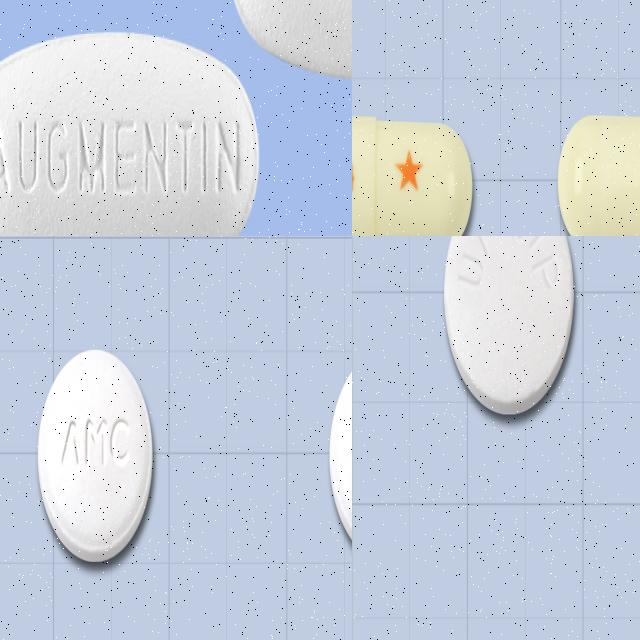Amocla 375mg: (37, 349, 154, 564), (328, 347, 352, 565)
Augmentin: (0, 30, 261, 236)
Ciprofloxacin HCl Tab- Unimed: (440, 236, 580, 420)
Dentistar Cap: (352, 111, 475, 236), (558, 112, 640, 236)
